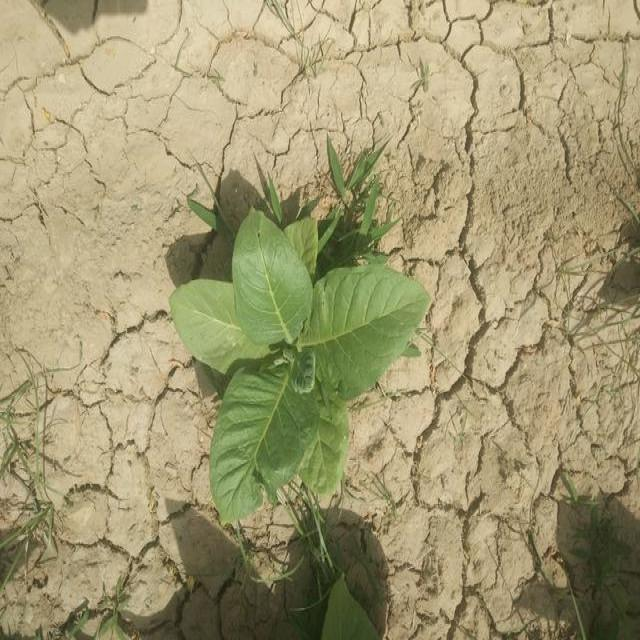crop: (161, 213, 431, 512)
